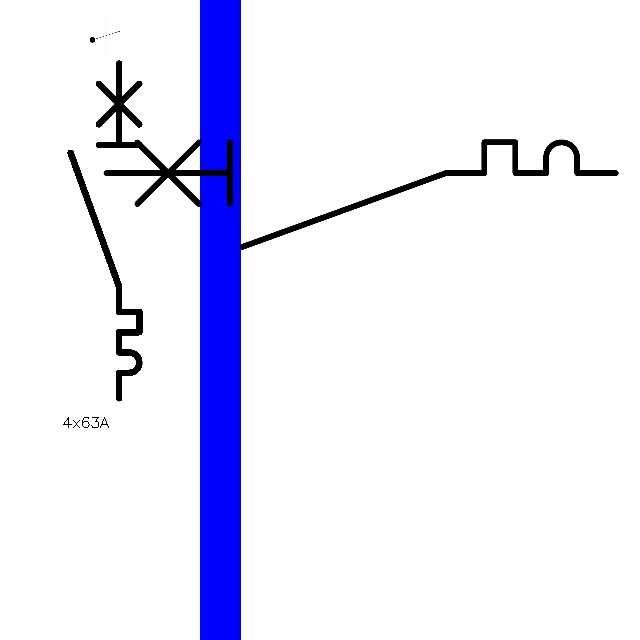interruptor_termomagnetico: (93, 129, 629, 260), (62, 54, 148, 406)
